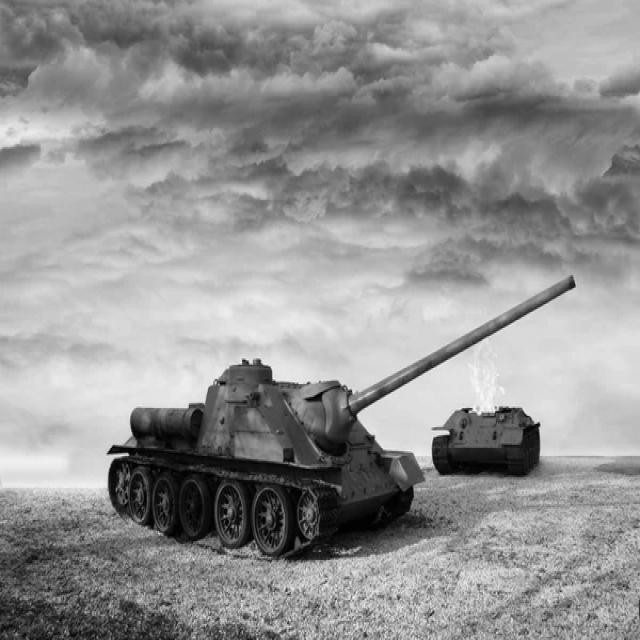Tank: (104, 269, 582, 566), (429, 391, 547, 478)
